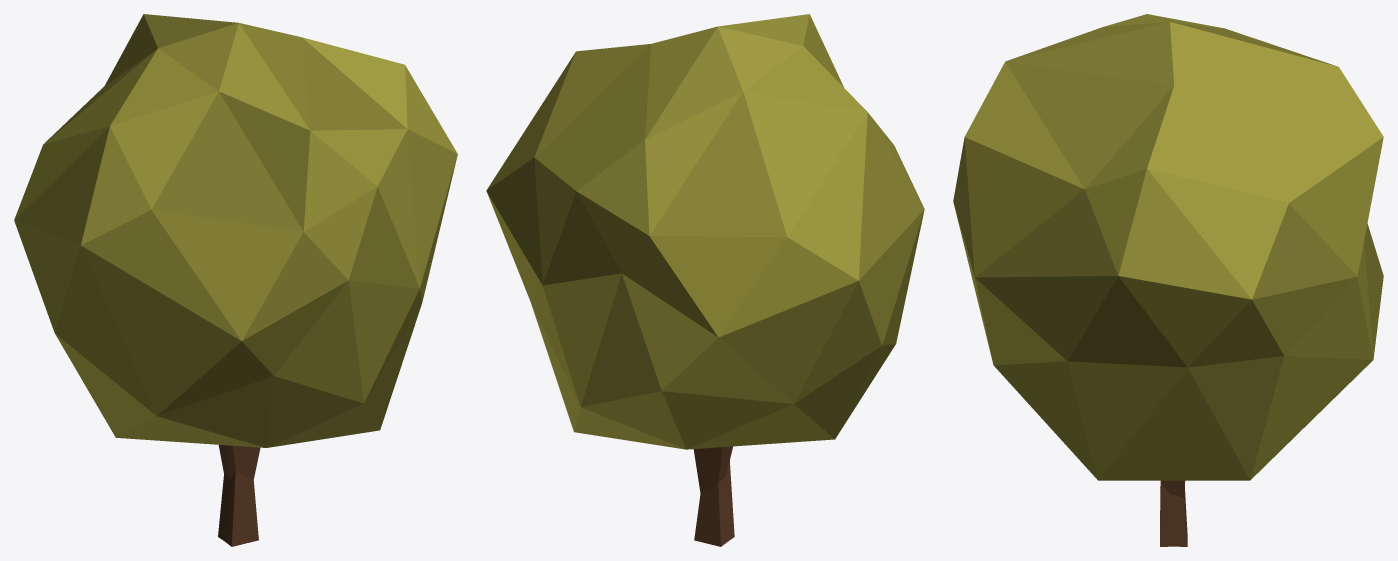
Rendered from Tree_9_Yellow.fbx.
3 renders of one model, left to right at view 1: azimuth 30°, elevation 25°; view 2: azimuth 150°, elevation 25°; view 3: azimuth 270°, elevation 25°, orthographic.
Parts seen in each view (by area): view 1: Tree_9_Yellow_Part_1, Tree_9_Yellow_Part_2; view 2: Tree_9_Yellow_Part_1, Tree_9_Yellow_Part_2; view 3: Tree_9_Yellow_Part_1, Tree_9_Yellow_Part_2.
Boxes of the visible parts, box(x1,y1,x2,y2) form: Tree_9_Yellow_Part_1: box(14, 14, 457, 447); Tree_9_Yellow_Part_2: box(218, 445, 260, 546); Tree_9_Yellow_Part_1: box(486, 14, 924, 449); Tree_9_Yellow_Part_2: box(693, 446, 734, 546); Tree_9_Yellow_Part_1: box(953, 14, 1383, 480); Tree_9_Yellow_Part_2: box(1160, 480, 1187, 546).
Bounding box in the file's own units: 583 × 765 × 576.
